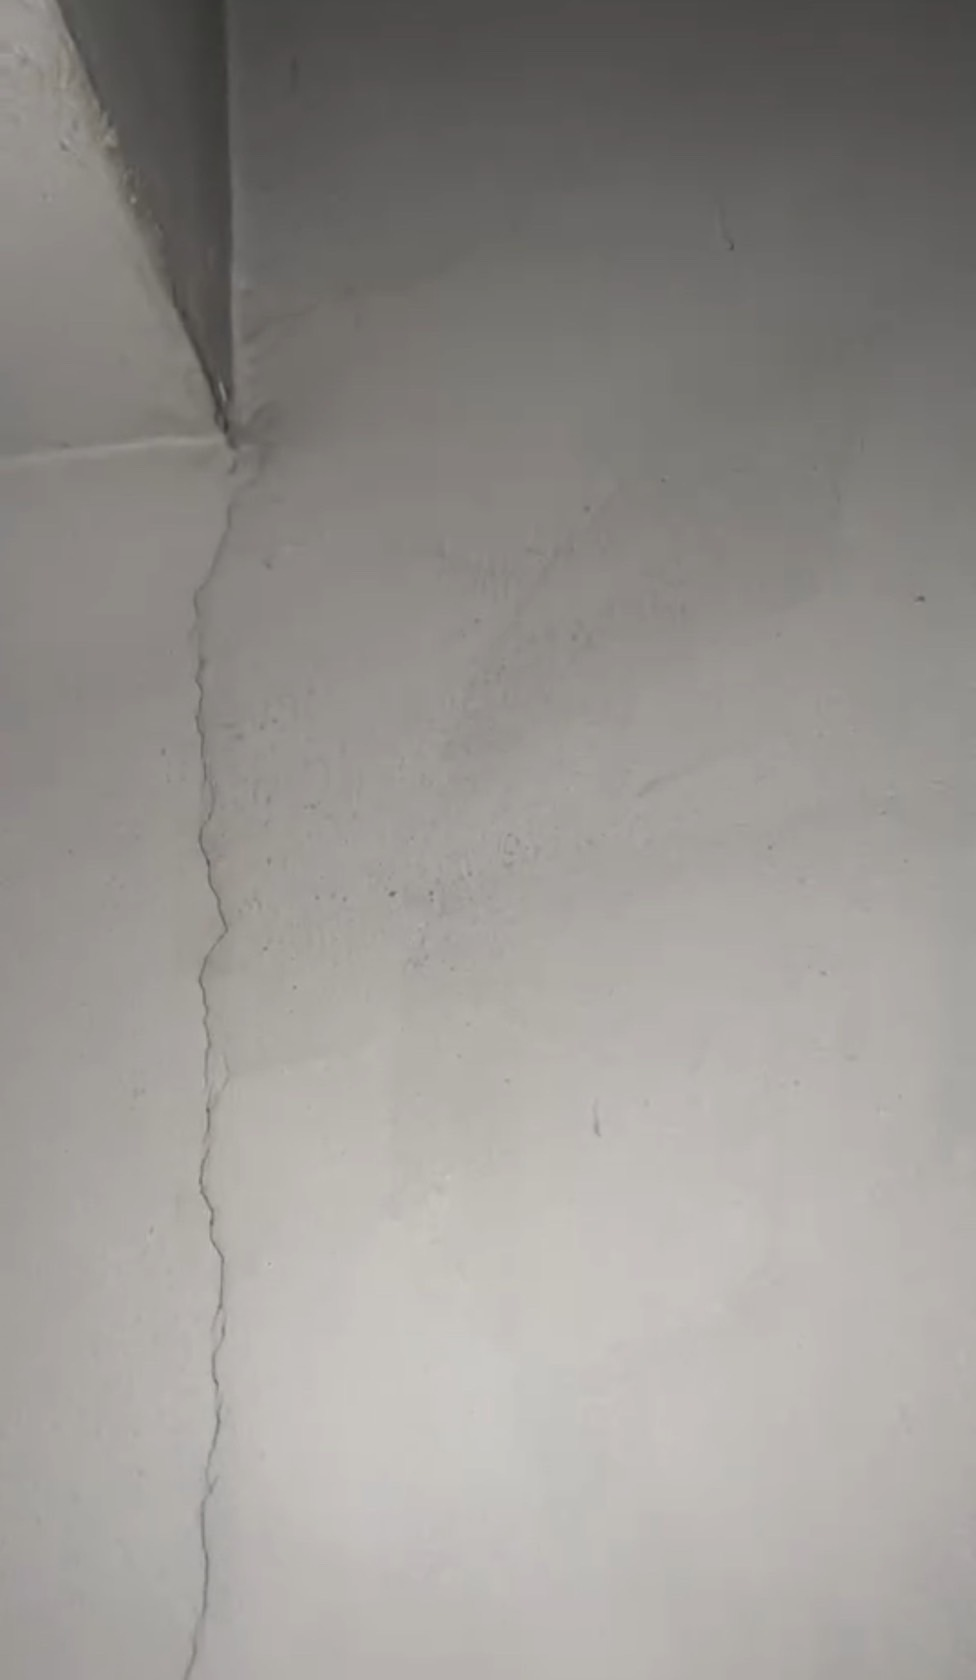Low: (157, 393, 318, 1675)
